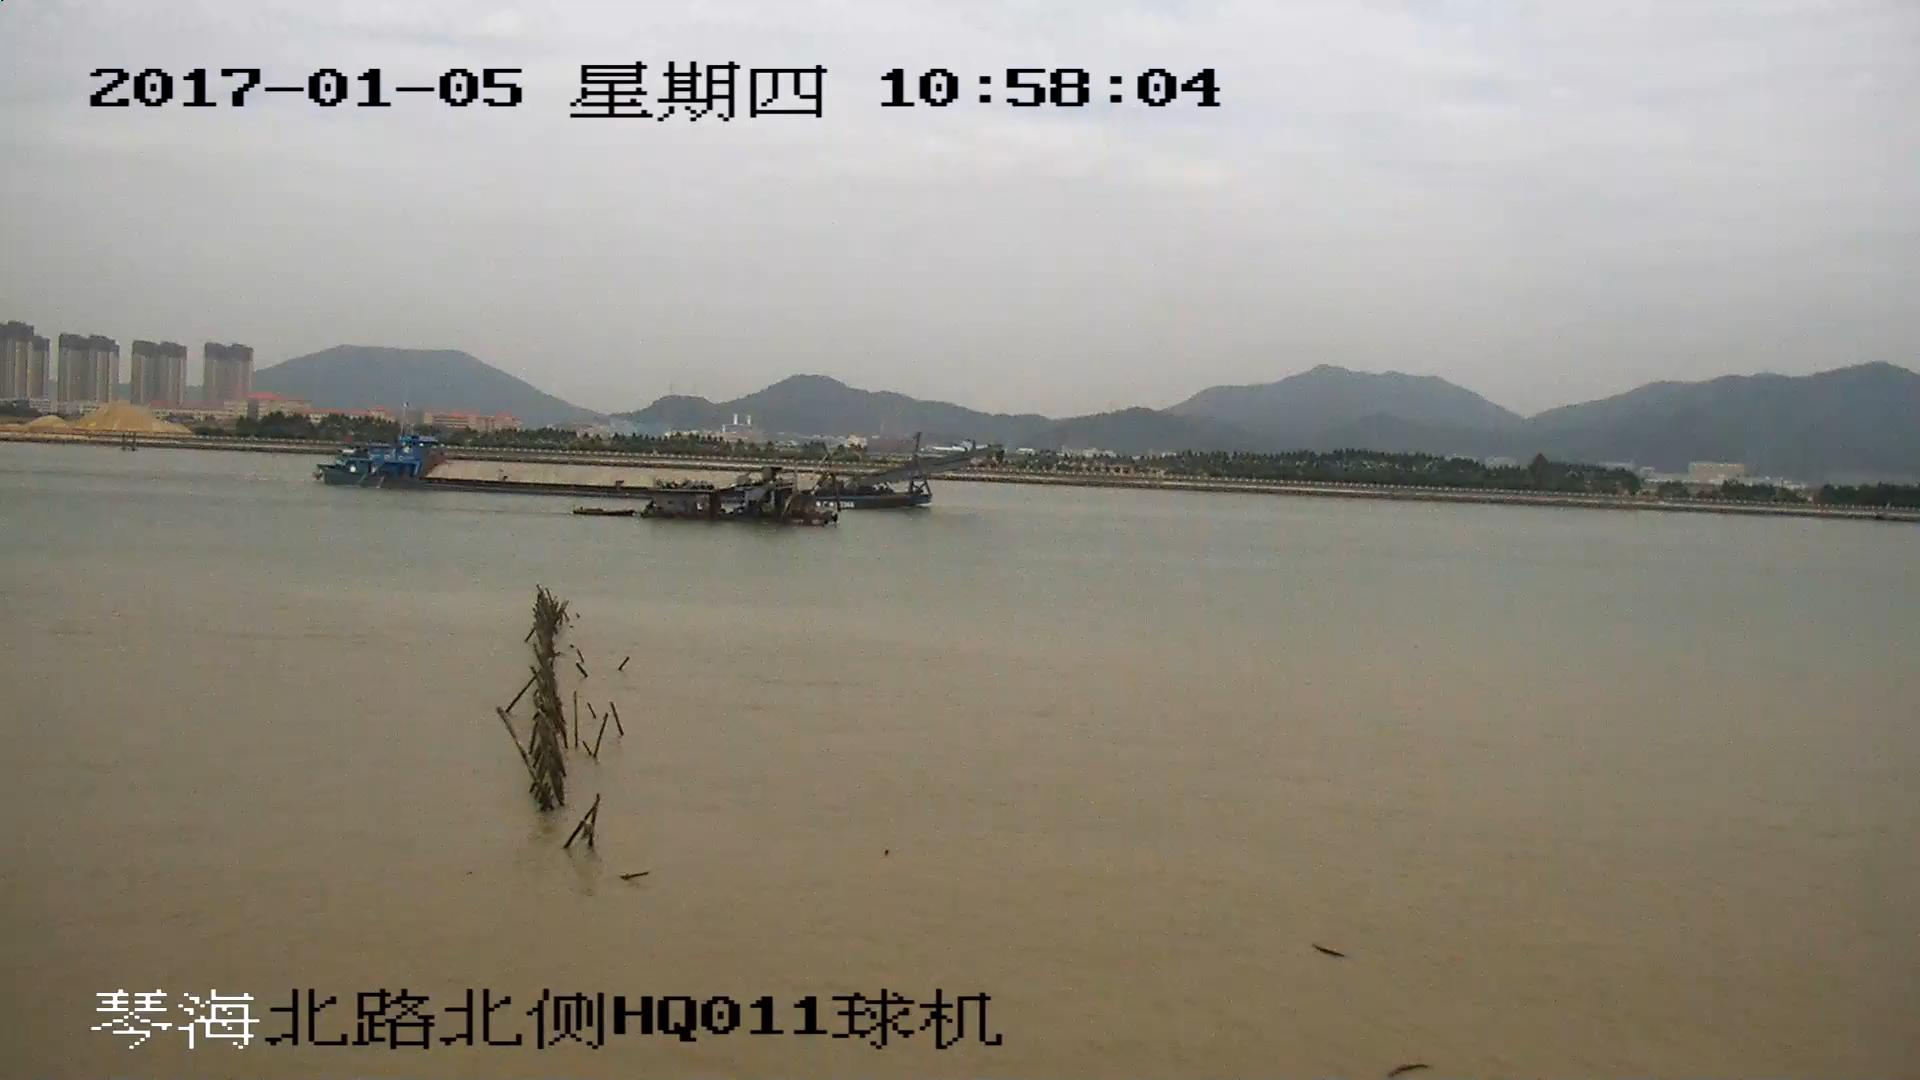ore carrier: (324, 428, 998, 526)
